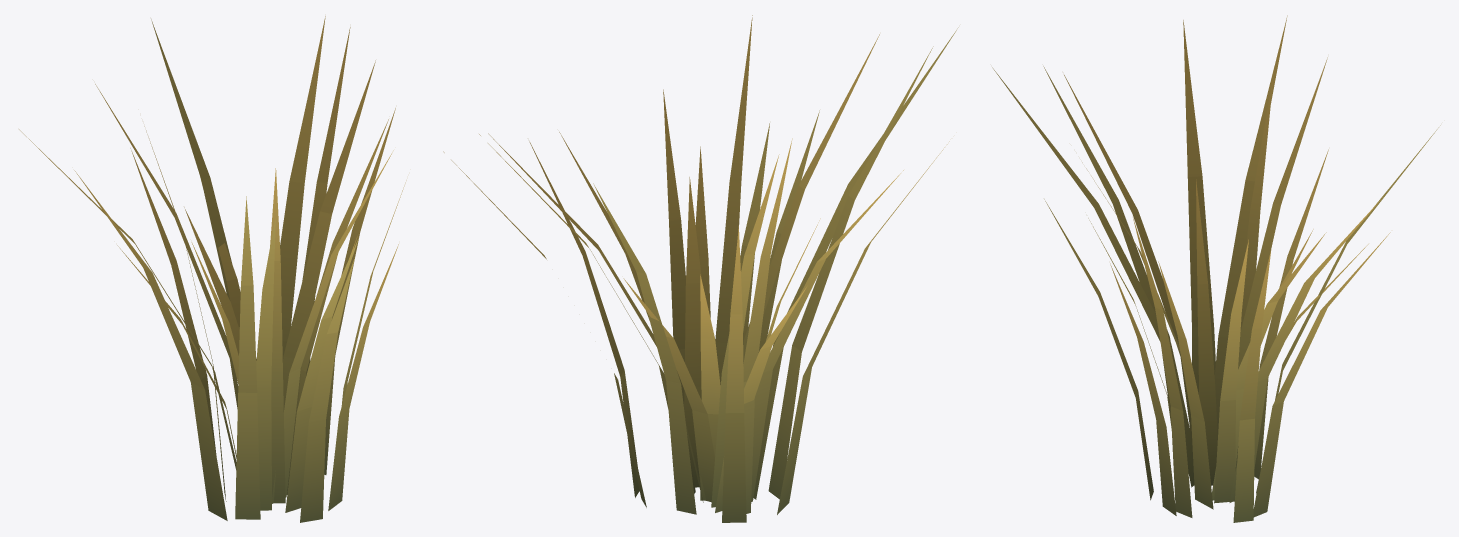
Rendered from grass_tall.glb.
The picture shows the model from 3 angles, left to right: view 1: azimuth 30°, elevation 25°; view 2: azimuth 150°, elevation 25°; view 3: azimuth 270°, elevation 25°; orthographic projection. The views are drawn at different scales.
Parts seen in each view (by area): view 1: grass_tall; view 2: grass_tall; view 3: grass_tall.
Boxes of the visible parts, x1,y1,x2,y2 form: grass_tall: (19,16,406,522); grass_tall: (443,15,958,522); grass_tall: (992,15,1440,522).
Size of the model in its own units: 0.9353 by 0.9348 by 0.9921.
